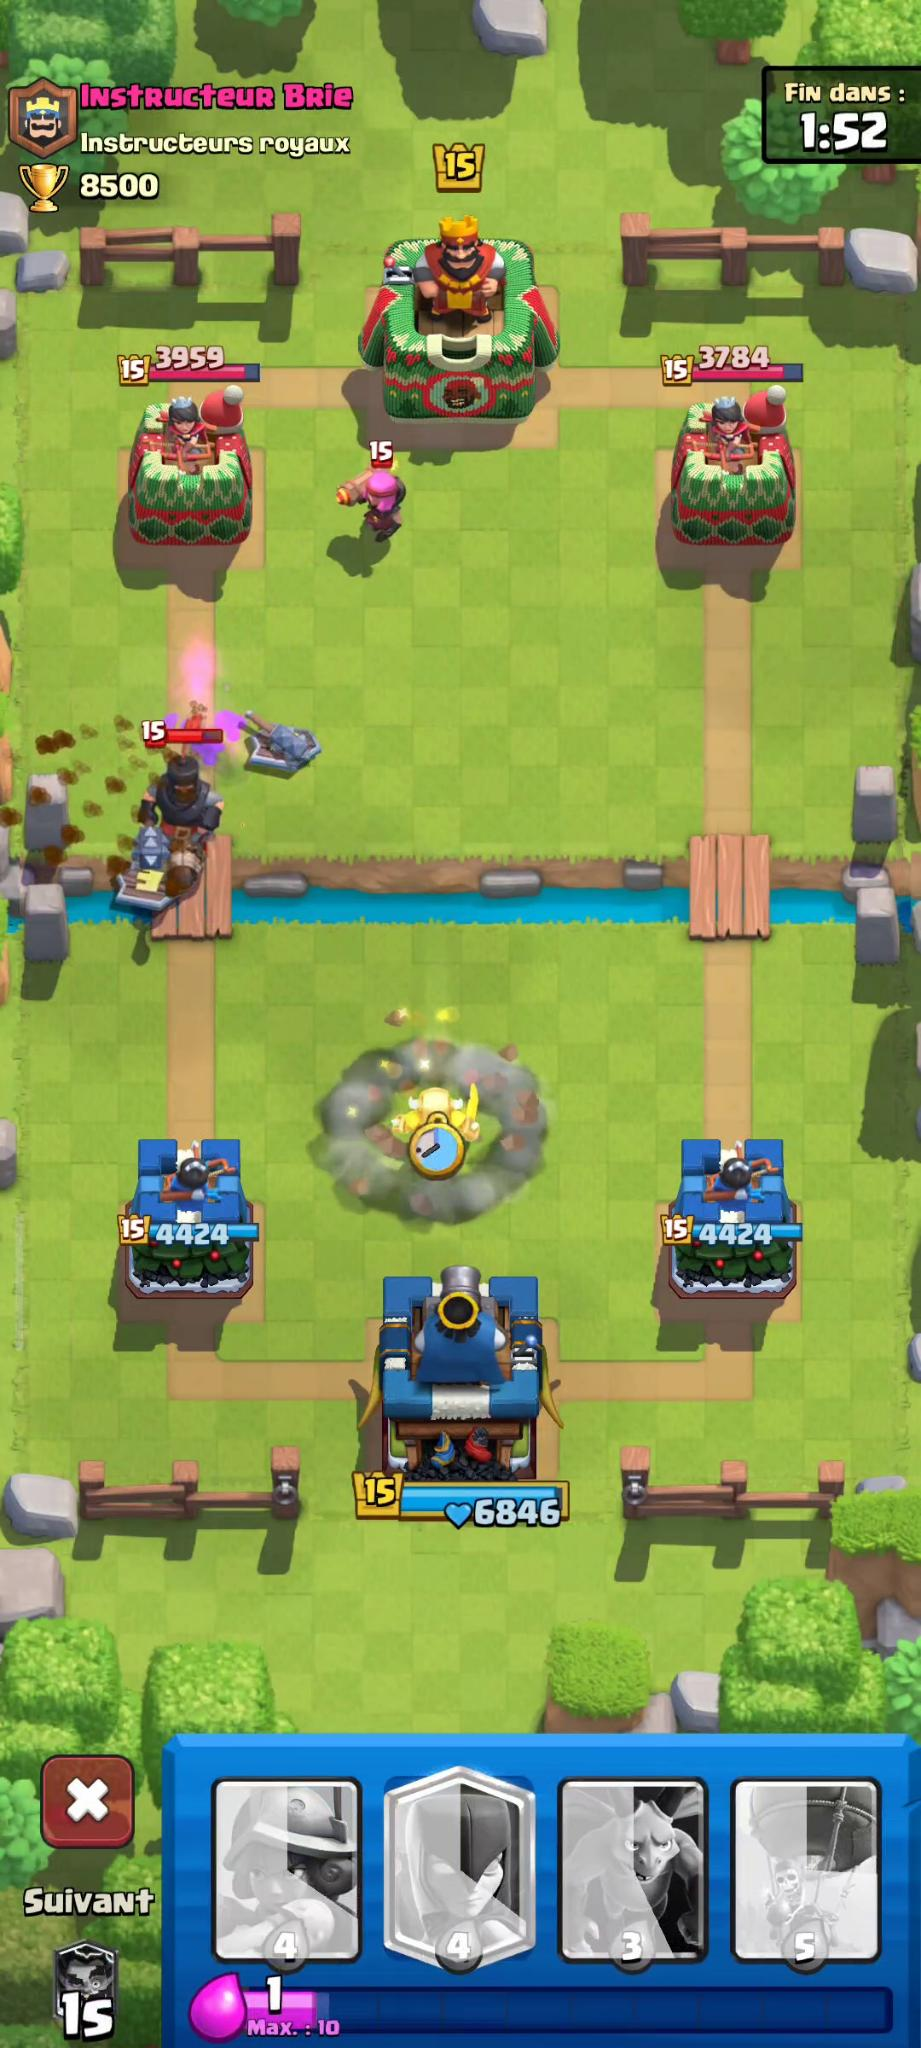mini_PEKKA: (380, 1074, 494, 1172)
